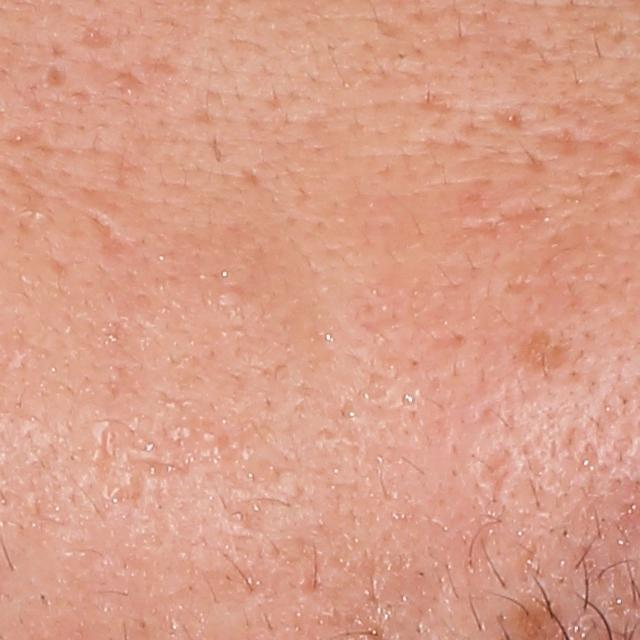atrophic_scar: (87, 211, 148, 276), (476, 445, 521, 512), (517, 325, 575, 375), (490, 198, 558, 230), (73, 11, 117, 50), (537, 121, 584, 157), (2, 124, 53, 152), (494, 97, 528, 136), (138, 54, 181, 84), (40, 61, 70, 91)
